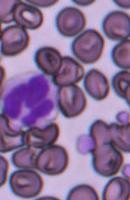N: (0, 71, 58, 127)
